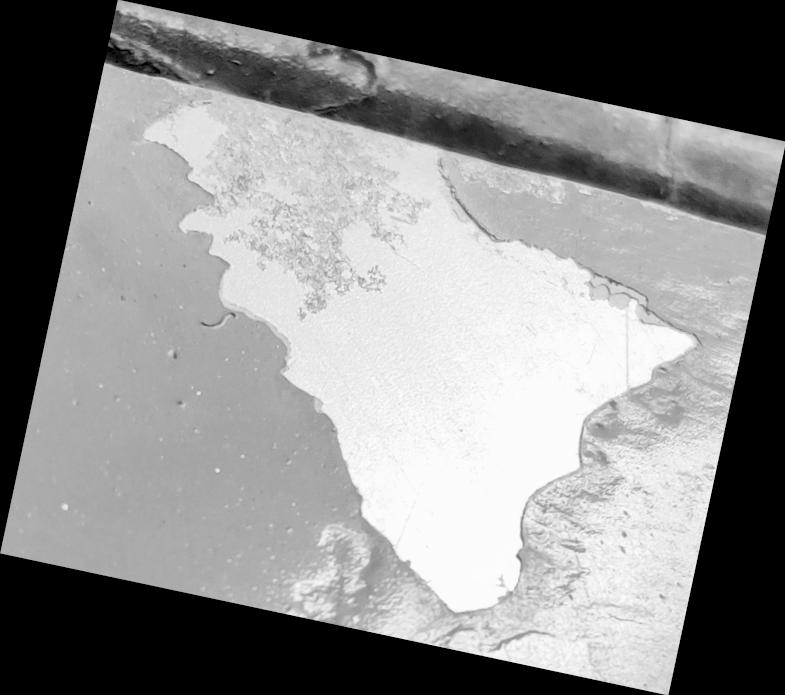paint-off: (0, 1, 785, 695)
